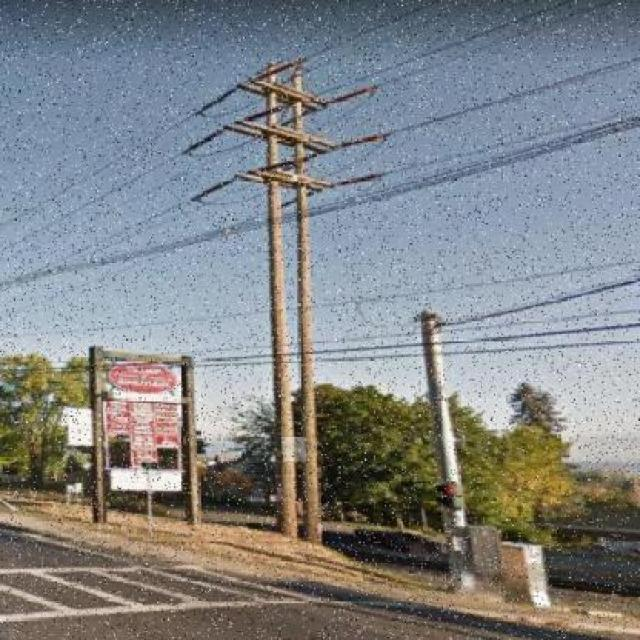pole: (146, 46, 417, 554)
